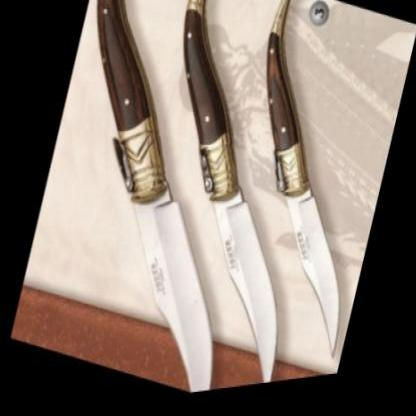knife: (96, 189, 252, 404), (178, 199, 312, 395), (273, 201, 369, 371)
